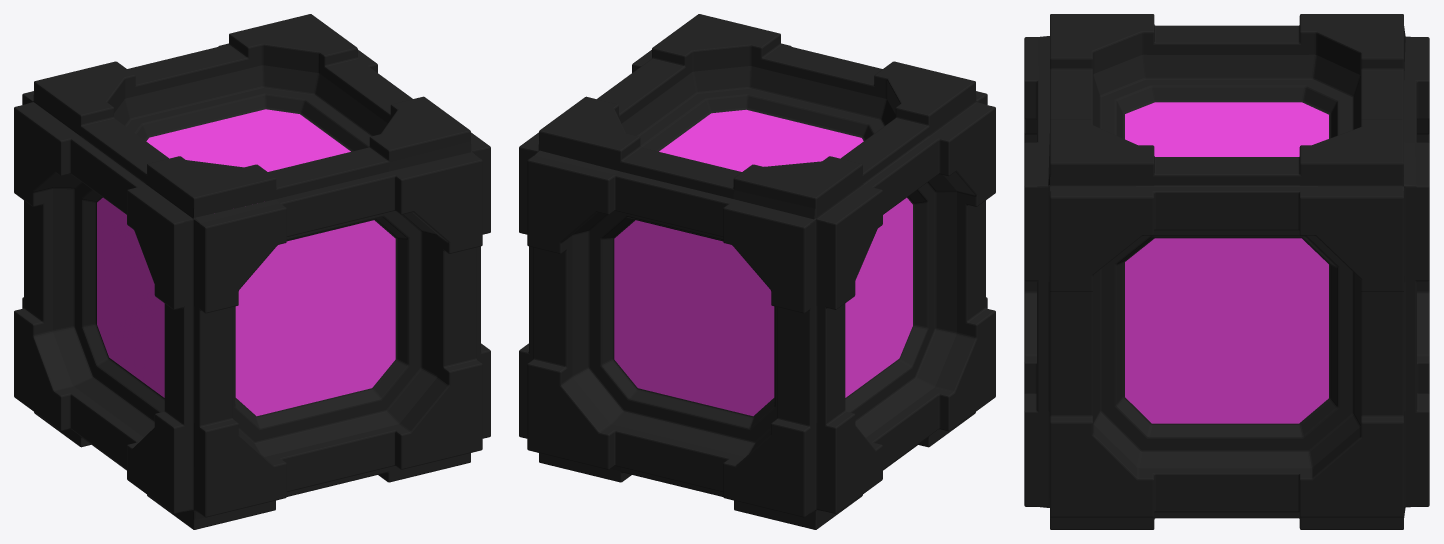
The model's file is EN_Crate_Unwrapped.FBX.
3 renders of one model, left to right at view 1: azimuth 30°, elevation 25°; view 2: azimuth 150°, elevation 25°; view 3: azimuth 270°, elevation 25°, orthographic. The views are drawn at different scales.
Parts seen in each view (by area): view 1: Carton Box Smooth; view 2: Carton Box Smooth; view 3: Carton Box Smooth.
Boxes of the visible parts, x1,y1,x2,y2 form: Carton Box Smooth: [14, 14, 490, 529]; Carton Box Smooth: [519, 14, 995, 529]; Carton Box Smooth: [1024, 14, 1429, 529].
Bounding box in the file's own units: 52.86 × 52.86 × 52.86.
